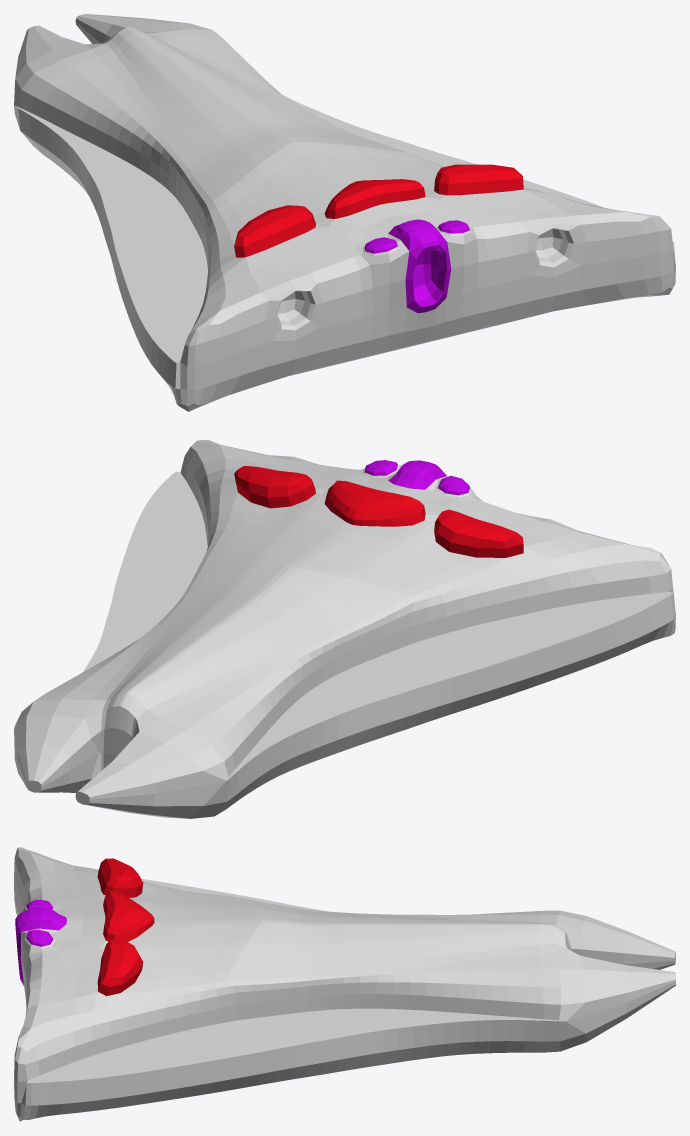
Rendered from reforgedPlayer3LowPoly.fbx.
3 views of the same model, one above another, from view 1: azimuth 30°, elevation 25°; view 2: azimuth 150°, elevation 25°; view 3: azimuth 270°, elevation 25° (orthographic). The views are drawn at different scales.
Parts seen in each view (by area): view 1: Base; view 2: Base; view 3: Base.
Part boxes in pixels (x1,y1,x2,y2): Base: (14, 14, 675, 411); Base: (14, 440, 675, 818); Base: (14, 847, 675, 1121).
Bounding box in the file's own units: 296 × 73.61 × 382.
